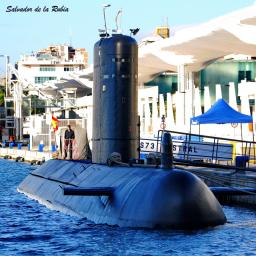submarine: (18, 35, 230, 229)
